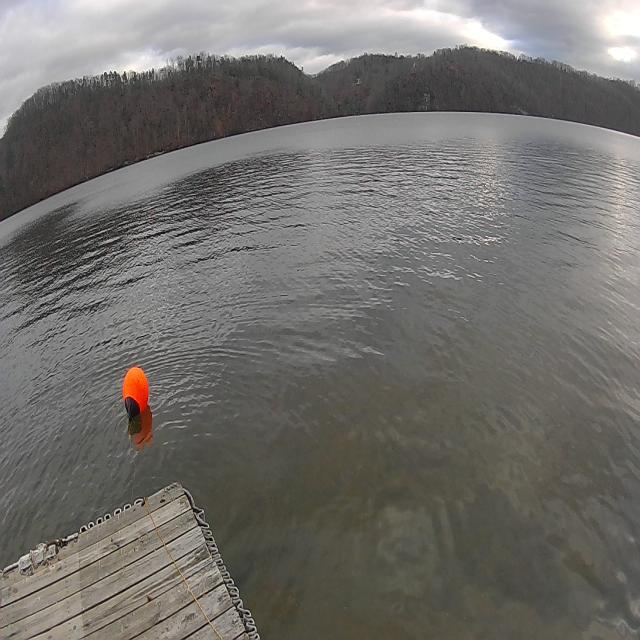Buoy: (108, 339, 162, 448)
